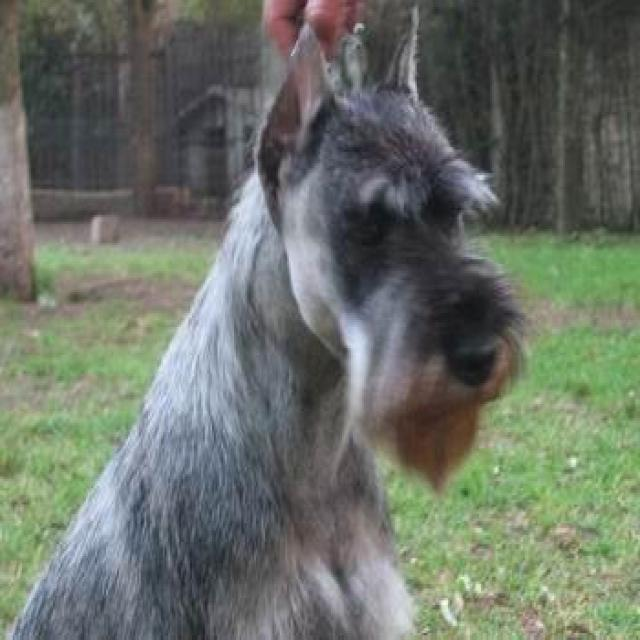standard_schnauzer: (10, 0, 538, 638)
